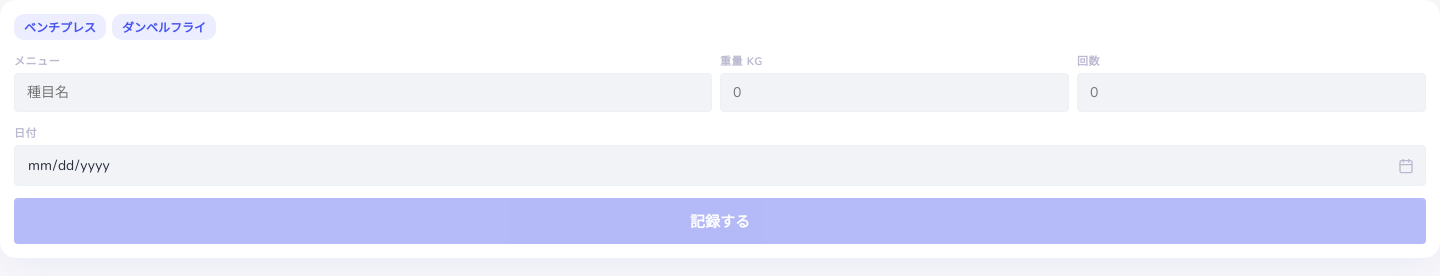
Test: WorkoutForm › fills menu field when a candidate chip is clicked
Click the button "ベンチプレス" at (60, 27), box [14, 14, 106, 40]
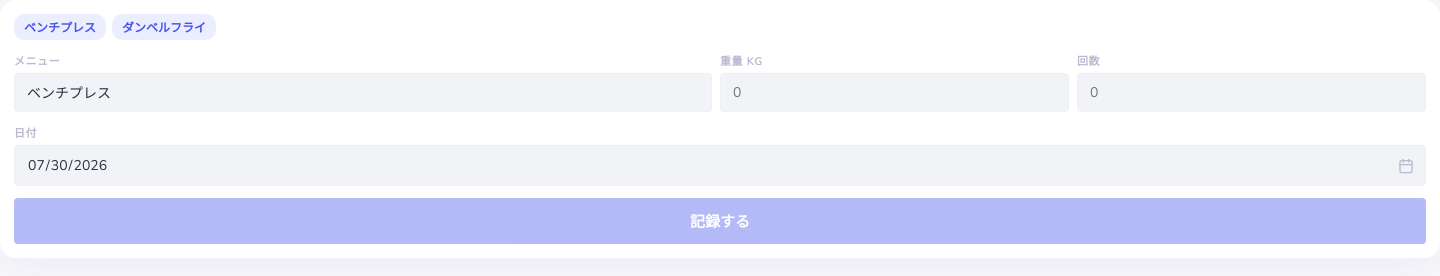
Now the field with id "wo-menu" holds "ベンチプレス", box [14, 73, 712, 112]
